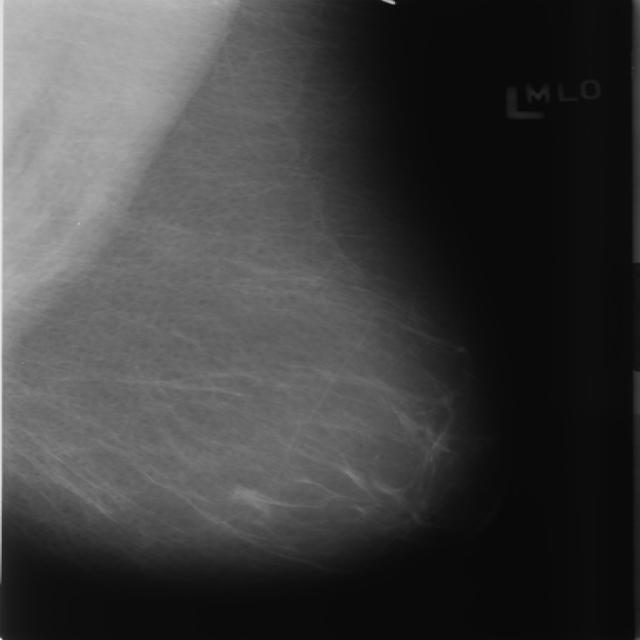tumour: (230, 482, 277, 510)
